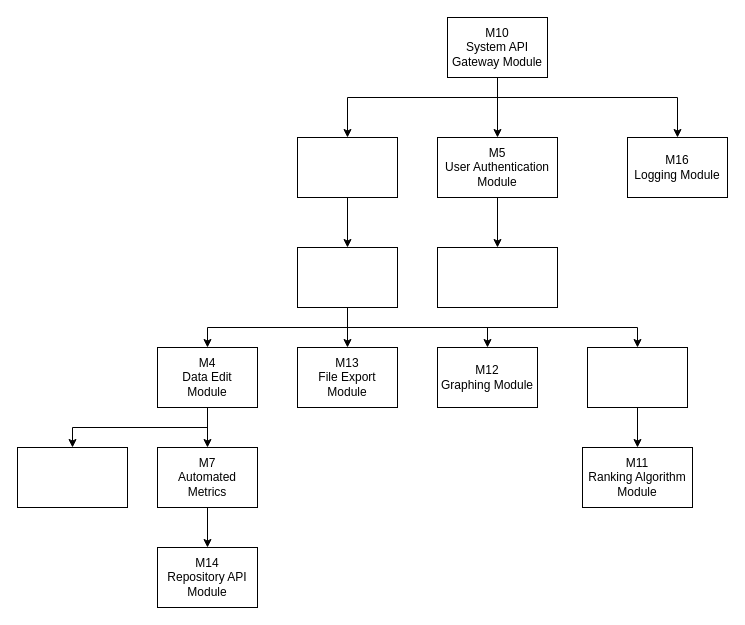
This 745x625 diagram has some shape labels left out. The centre of each missing label's shape, as x and y in pixels:
M15 Database Persistence Module: [72,477]
M3 Application UI Module: [347,167]
M6 User Management Module: [497,277]
M8 Domains Page Module: [347,277]
M9 Comparision Module: [637,377]
